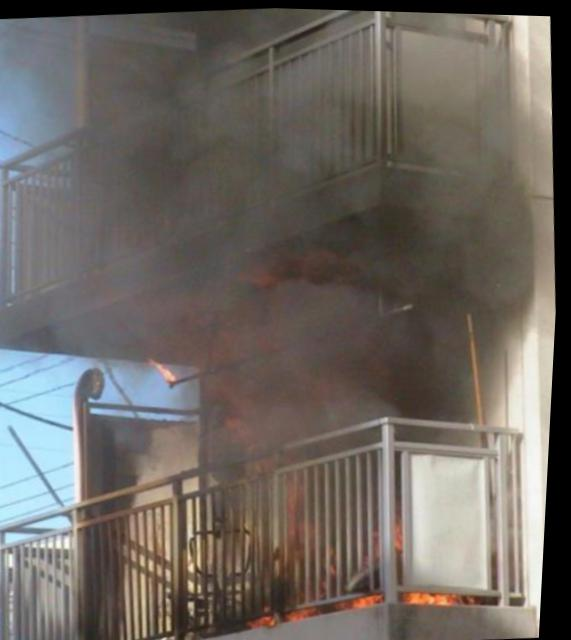fire: (405, 585, 476, 603), (349, 588, 395, 604), (155, 354, 179, 381), (257, 608, 280, 626), (292, 604, 321, 618)
